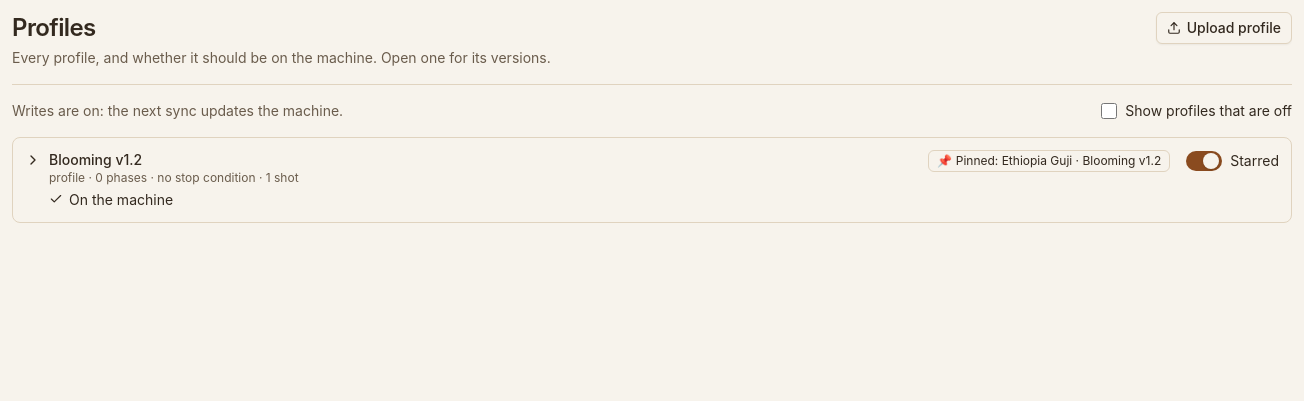
Test case: a pinned row on the Profiles page › counts the shots the link lists: those brewed on the copy, filed or waiting
Expected: the text "Blooming v1.2" is shown, [49,150,142,170]
Click the button with test id "profile-toggle".
click(96, 160)  # box [25,150,912,210]
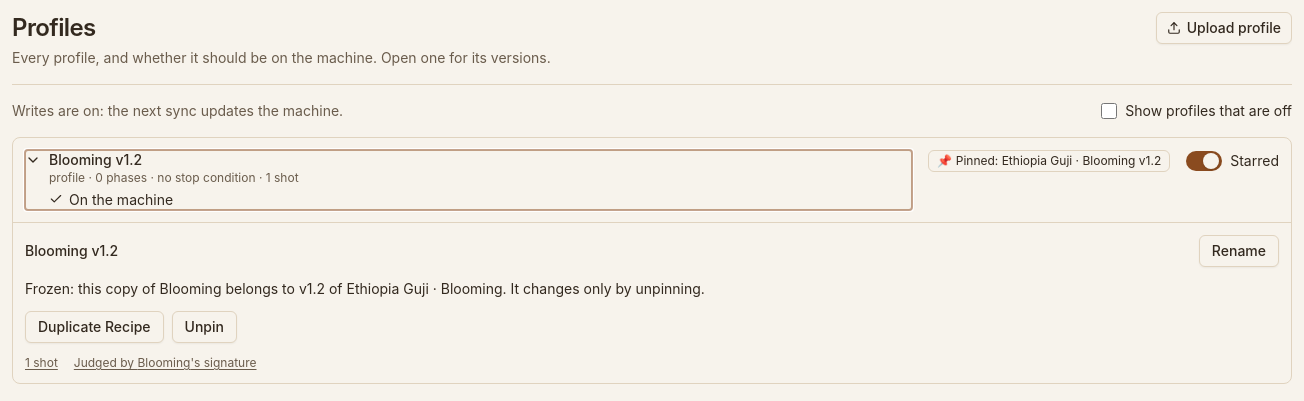
Expected: the link with test id "pinned-shots-link" reads "1 shot", [25,355,58,371]
